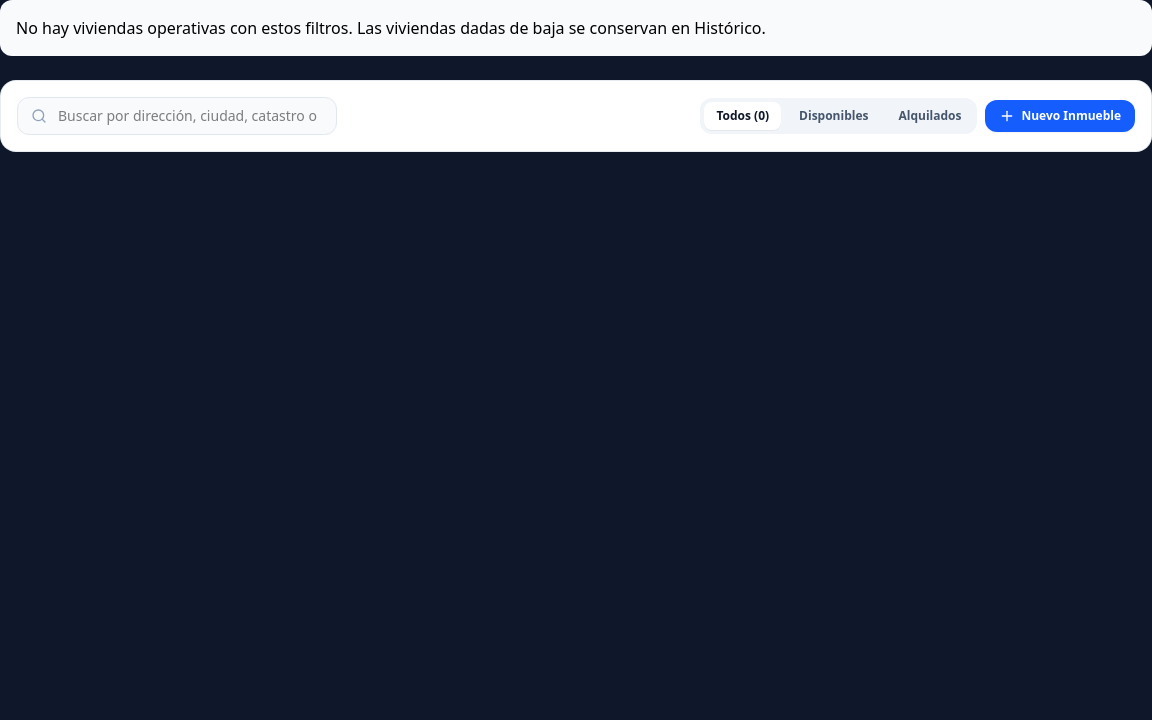
Test case: E · N titulares A/B/C (no binario) › resume quién es principal, secundario y otros mientras se elige
Click the button "Nuevo Inmueble".
click(1060, 116)  # box [986,100,1135,132]
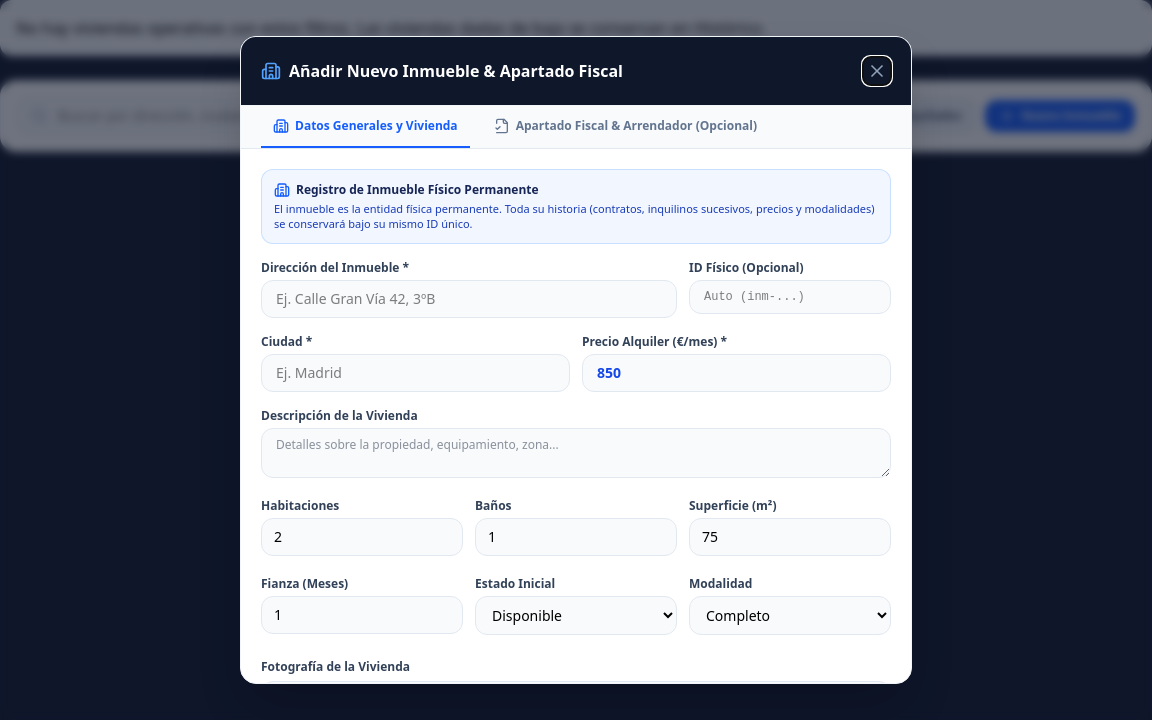
Click the button "Apartado Fiscal & Arrendador (Opcional)".
click(625, 133)  # box [482,118,769,148]
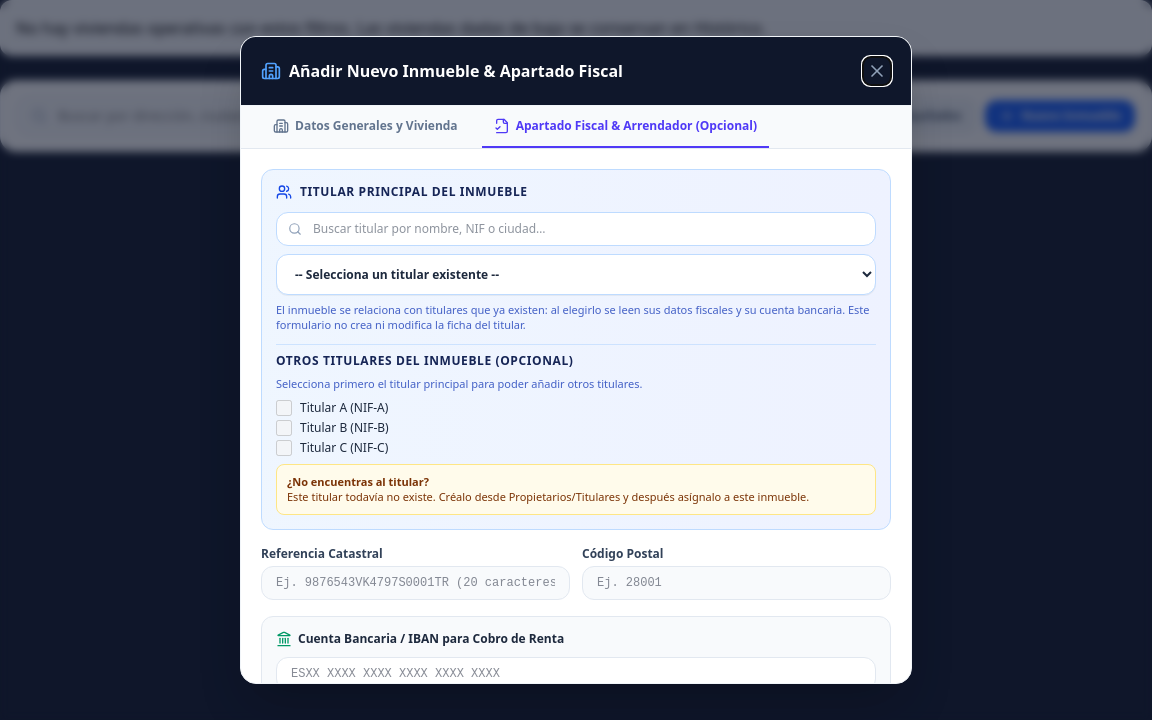
Select "Titular A (NIF-A) — 1 cuenta(s) bancaria(s)" in the dropdown at (576, 274), box [276,254,876,295]
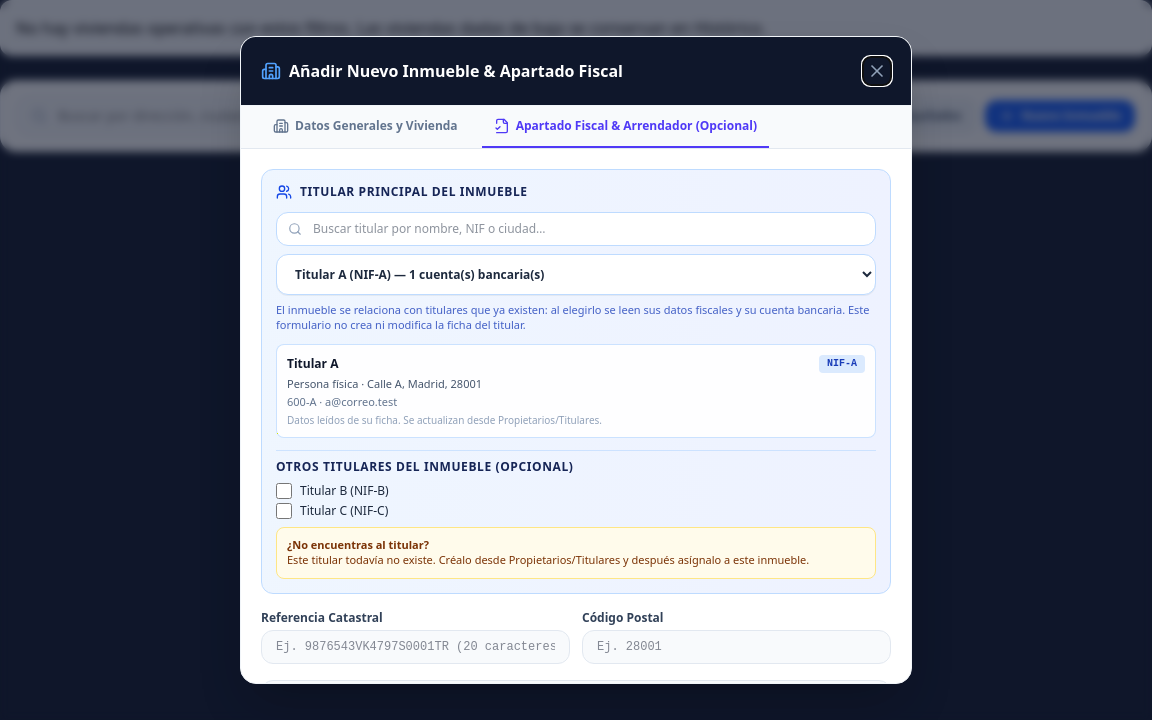
Click the checkbox labelled "Titular B (NIF-B)".
click(284, 491)  # box [276,483,292,499]
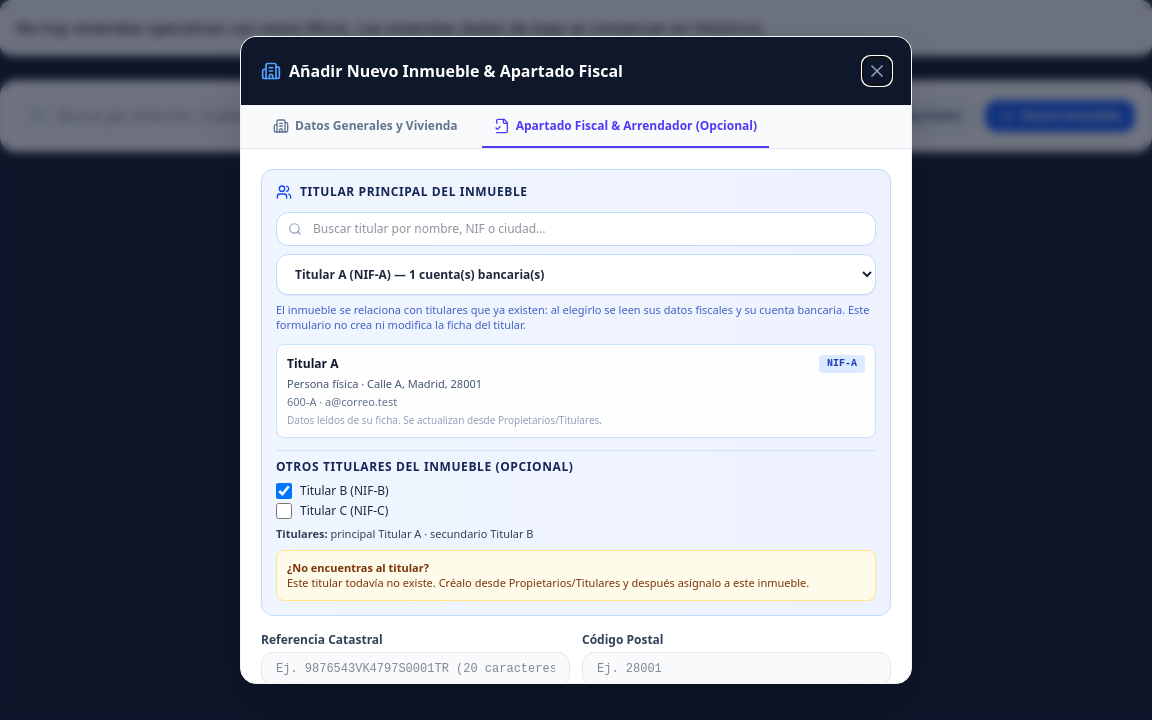
Click the checkbox labelled "Titular C (NIF-C)".
click(284, 511)  # box [276,503,292,519]
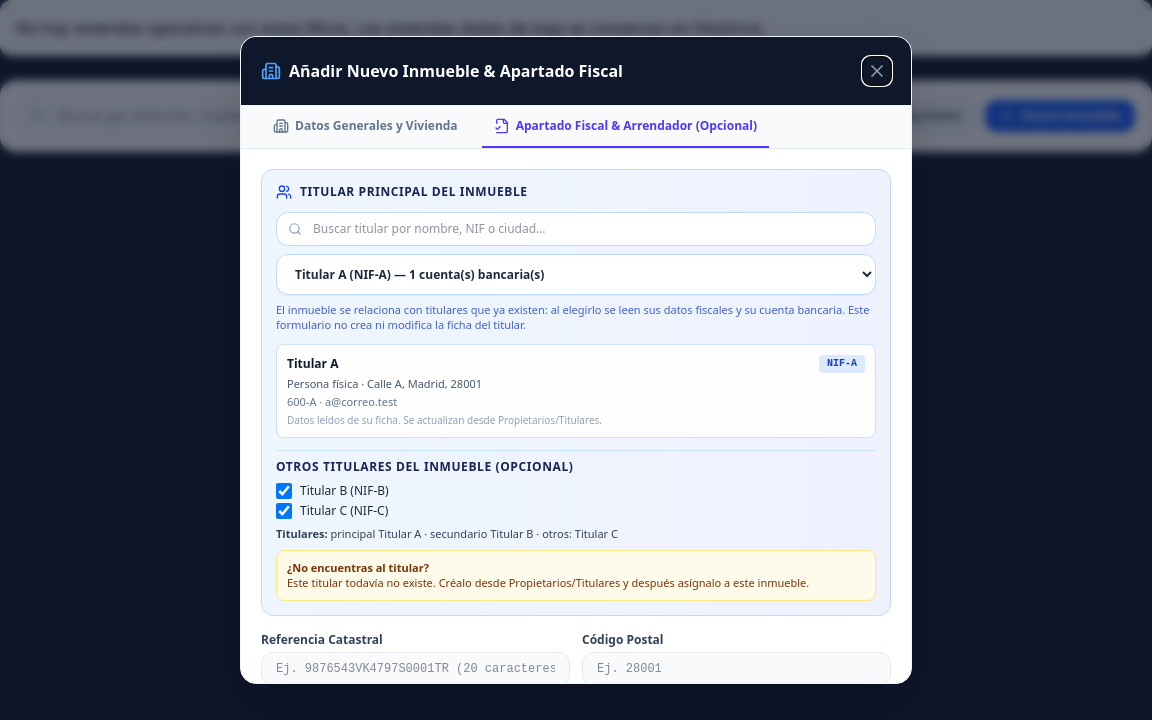
Result: the element with test id "alta-resumen-titulares" shows "principal Titular A" at [276,526,618,541]
Result: the element with test id "alta-resumen-titulares" shows "secundario Titular B" at [276,526,618,541]
Result: the element with test id "alta-resumen-titulares" shows "otros: Titular C" at [534,526,618,541]
